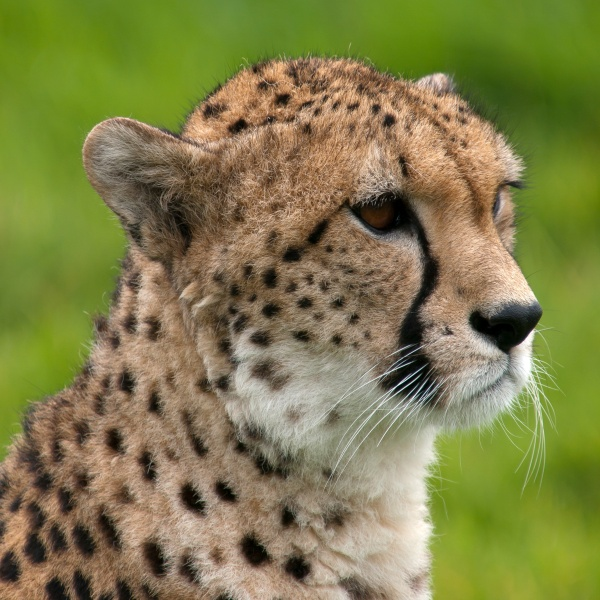Cheetah: (2, 52, 556, 600)
